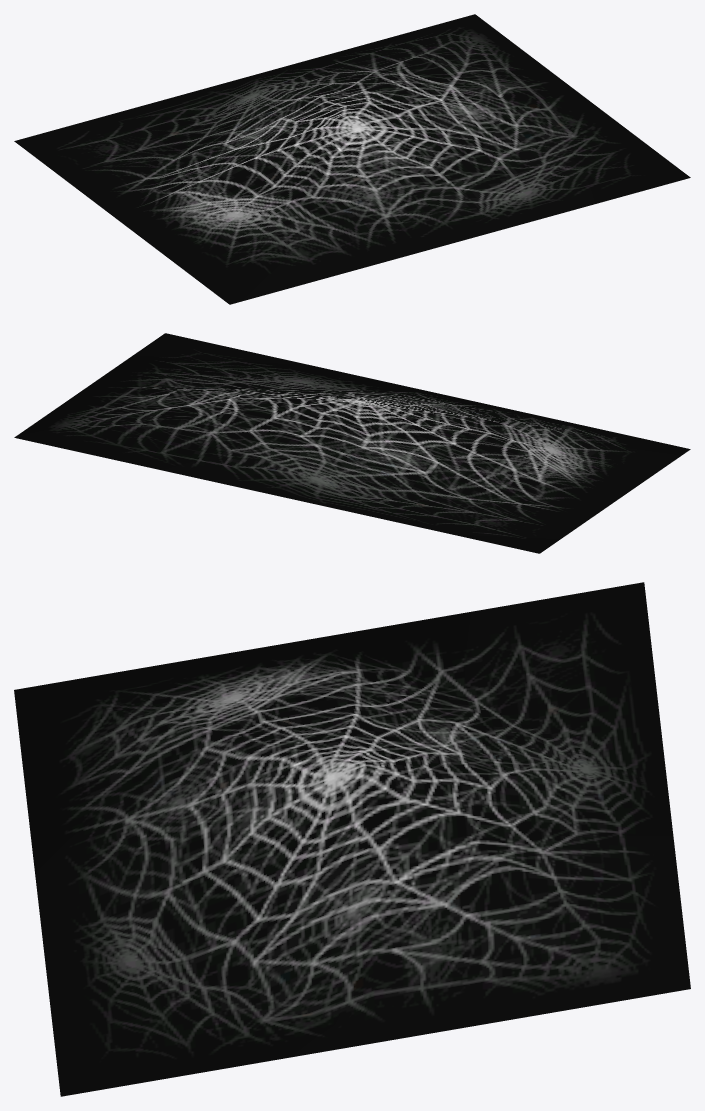
File: MIRKWOOD_PLANE16.fbx
3 views of the same model, one above another, from view 1: azimuth 30°, elevation 25°; view 2: azimuth 150°, elevation 25°; view 3: azimuth 270°, elevation 25° (orthographic). The views are drawn at different scales.
Visible parts, largest first — view 1: MIRKWOOD_PLANE16; view 2: MIRKWOOD_PLANE16; view 3: MIRKWOOD_PLANE16.
Part boxes in pixels (x1,y1,x2,y2): MIRKWOOD_PLANE16: [14, 14, 690, 304]; MIRKWOOD_PLANE16: [14, 333, 690, 553]; MIRKWOOD_PLANE16: [14, 582, 690, 1096].
Bounding box in the file's own units: 176876 × 20829 × 114423.
Materials: 1 (1 with a texture image).
